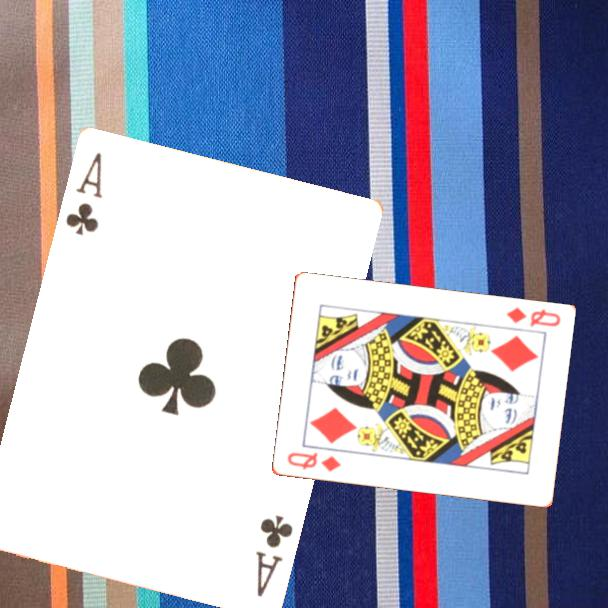c01: (252, 510, 296, 599), (62, 149, 105, 238)
d12: (283, 449, 343, 475), (503, 304, 563, 330)
